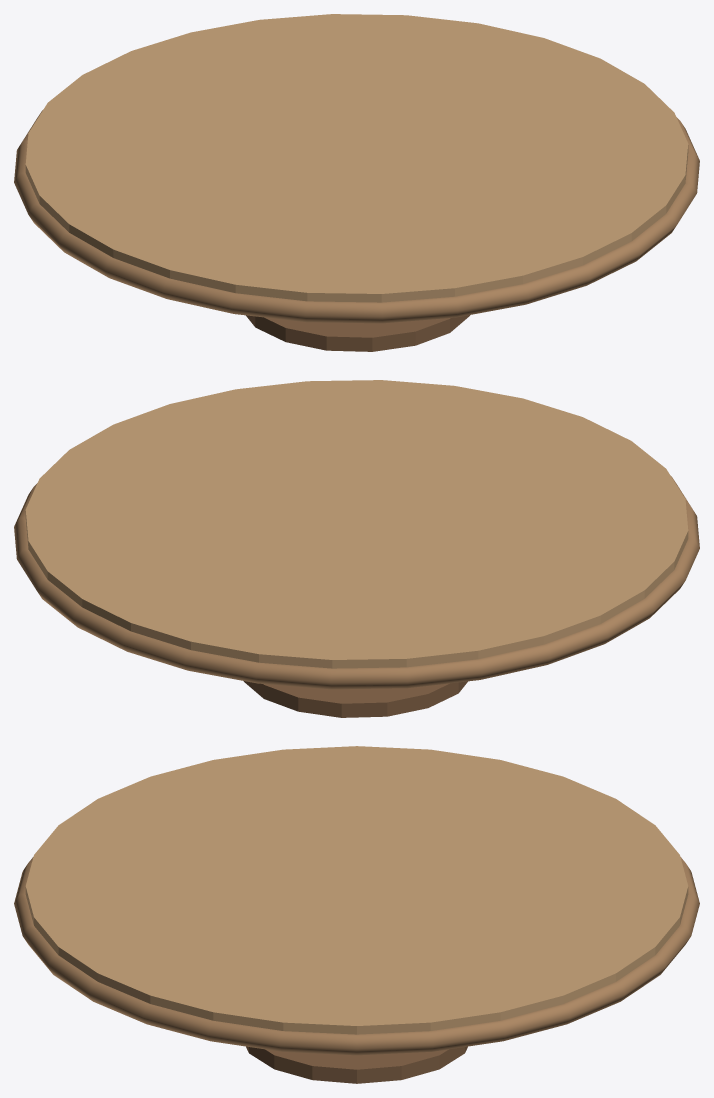
Rendered from Table.fbx.
3 renders of one model, top to bottom at view 1: azimuth 30°, elevation 25°; view 2: azimuth 150°, elevation 25°; view 3: azimuth 270°, elevation 25°, orthographic.
Visible parts, largest first — view 1: Table; view 2: Table; view 3: Table.
Boxes of the visible parts, left/top/right/bottom form: Table: left=14, top=14, right=699, bottom=351; Table: left=14, top=380, right=699, bottom=717; Table: left=14, top=746, right=699, bottom=1083.
Size of the model in its own units: 352 by 84 by 352.
